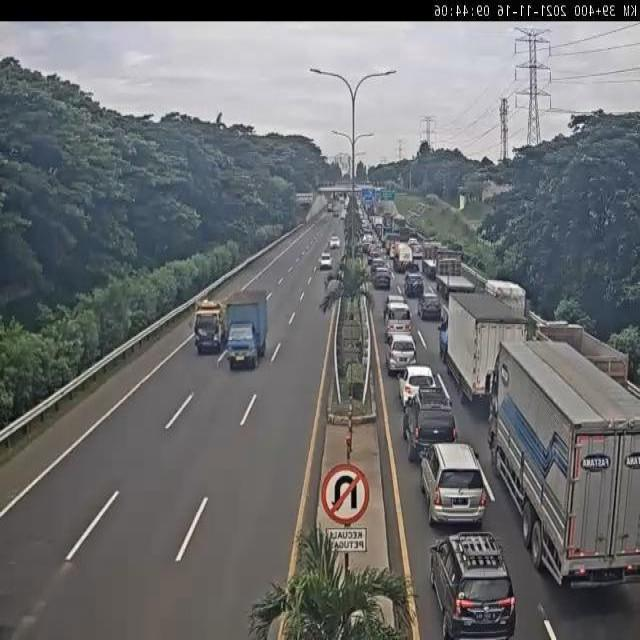Car: (428, 531, 516, 640), (420, 442, 488, 527), (406, 400, 458, 465), (397, 364, 438, 408), (385, 330, 417, 375), (418, 294, 442, 321), (404, 272, 424, 297), (373, 269, 391, 290), (320, 253, 332, 270), (330, 236, 340, 249)
Truck: (491, 337, 638, 585), (443, 289, 529, 410), (534, 316, 627, 386), (223, 289, 268, 365), (434, 248, 479, 300), (192, 300, 231, 356), (485, 280, 526, 318), (393, 243, 413, 273), (422, 242, 441, 268)
Van: (384, 296, 413, 340)
